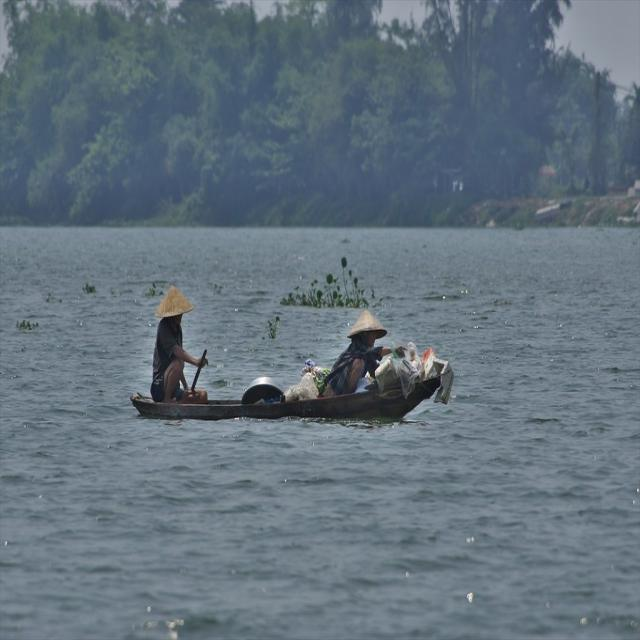Hyacinth: (275, 268, 384, 318)
boat: (117, 358, 454, 427)
